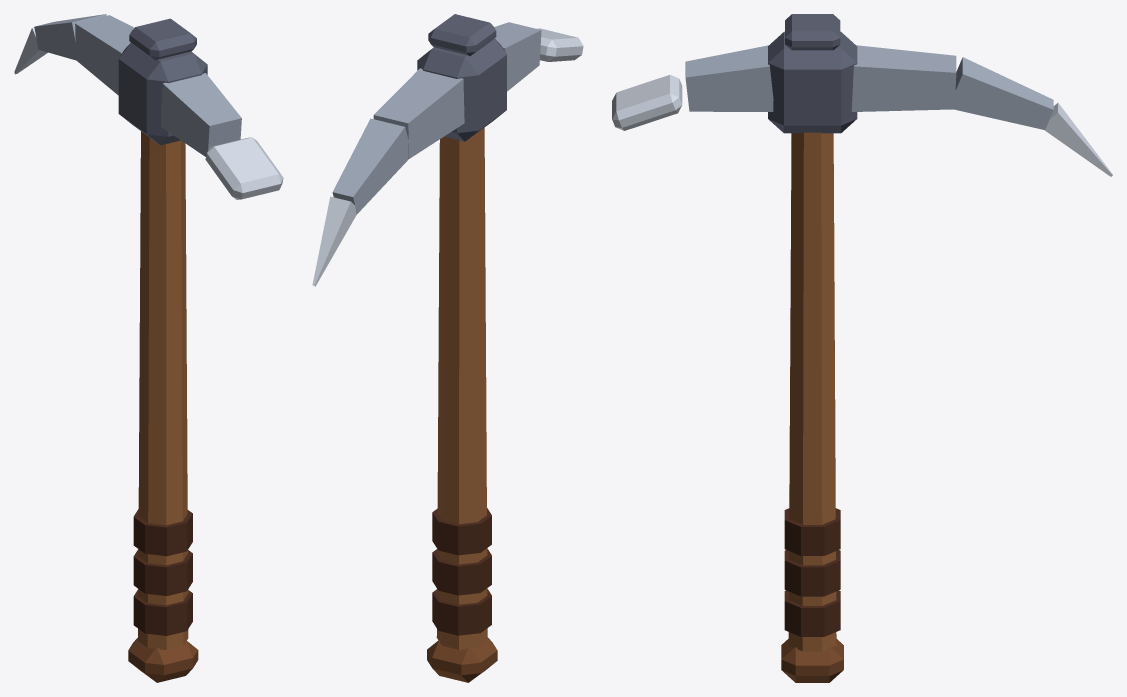
File: piccone.glb
The picture shows the model from 3 angles, left to right: view 1: azimuth 30°, elevation 25°; view 2: azimuth 150°, elevation 25°; view 3: azimuth 270°, elevation 25°; orthographic projection.
Parts seen in each view (by area): view 1: piccone2; view 2: piccone2; view 3: piccone2.
Part boxes in pixels (x1=…): piccone2: x1=14, y1=14, x2=283, y2=682; piccone2: x1=312, y1=14, x2=583, y2=682; piccone2: x1=612, y1=14, x2=1112, y2=682.
Size of the model in its own units: 0.08 by 0.8065 by 0.5603.
